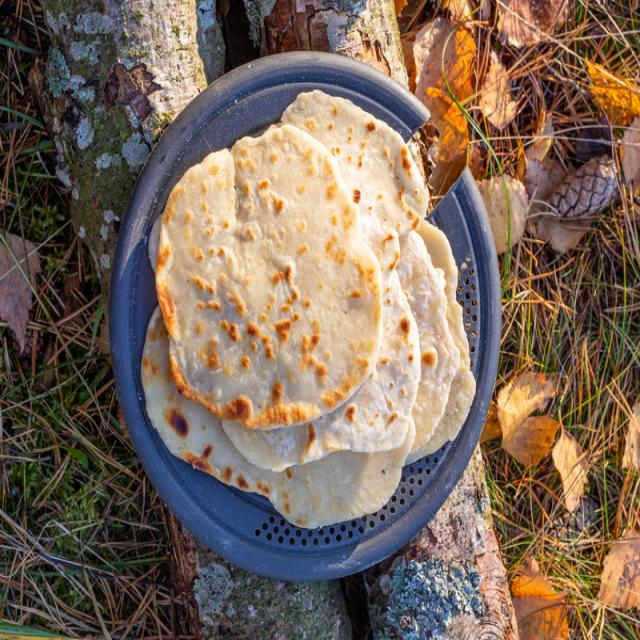roti: (151, 130, 381, 428), (142, 306, 413, 527), (222, 271, 419, 470), (282, 91, 428, 282), (410, 223, 475, 461), (396, 231, 461, 462)
